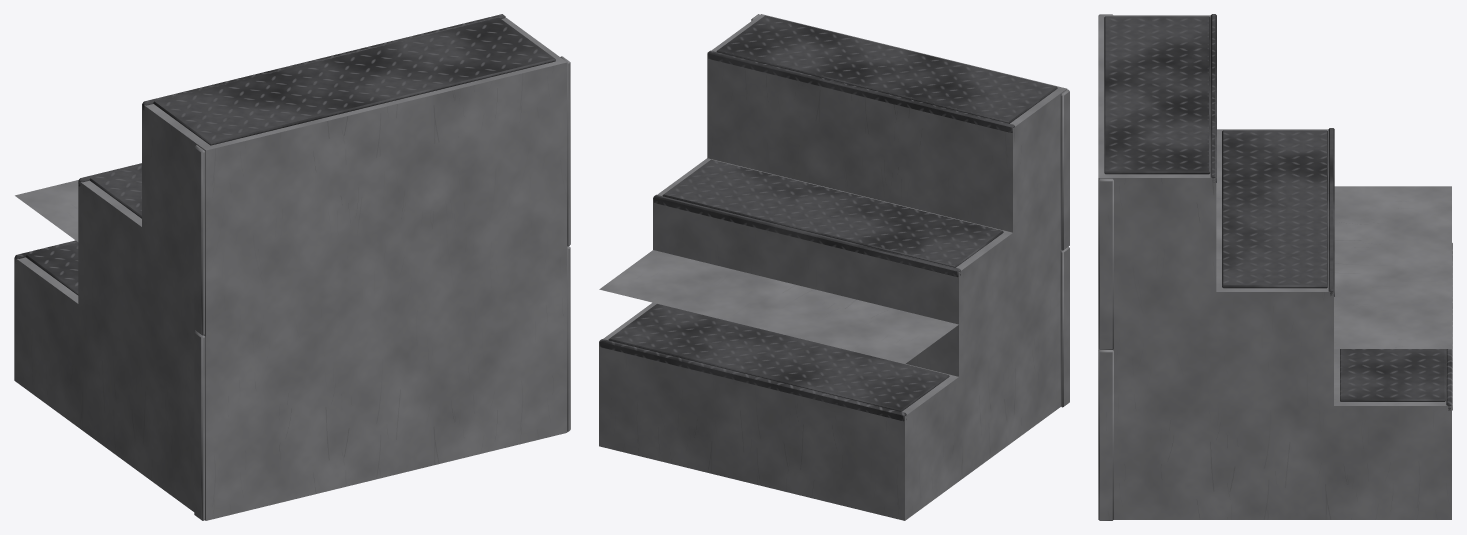
File: steel_steps.glb
The picture shows the model from 3 angles, left to right: view 1: azimuth 30°, elevation 25°; view 2: azimuth 150°, elevation 25°; view 3: azimuth 270°, elevation 25°; orthographic projection. The views are drawn at different scales.
Parts seen in each view (by area): view 1: SteelSteps_Clean_base, SteelSteps_Clean_top, SteelSteps_Clean_top_treads, SteelSteps_Clean_base_treads; view 2: SteelSteps_Clean_top, SteelSteps_Clean_base, SteelSteps_Clean_top_treads, SteelSteps_Clean_base_treads; view 3: SteelSteps_Clean_base, SteelSteps_Clean_top, SteelSteps_Clean_top_treads, SteelSteps_Clean_base_treads.
Part boxes in pixels (bbox=[...]): SteelSteps_Clean_base: bbox=[14, 242, 570, 520]; SteelSteps_Clean_top: bbox=[15, 17, 570, 335]; SteelSteps_Clean_top_treads: bbox=[78, 14, 555, 218]; SteelSteps_Clean_base_treads: bbox=[15, 240, 78, 295]; SteelSteps_Clean_top: bbox=[599, 14, 1069, 363]; SteelSteps_Clean_base: bbox=[599, 246, 1069, 520]; SteelSteps_Clean_top_treads: bbox=[653, 15, 1057, 277]; SteelSteps_Clean_base_treads: bbox=[599, 304, 949, 421]; SteelSteps_Clean_base: bbox=[1098, 349, 1451, 520]; SteelSteps_Clean_top: bbox=[1098, 14, 1451, 349]; SteelSteps_Clean_top_treads: bbox=[1104, 14, 1334, 296]; SteelSteps_Clean_base_treads: bbox=[1340, 243, 1452, 410].
Bounding box in the file's own units: 1 × 0.968 × 0.902.
2 materials, 2 textured.
